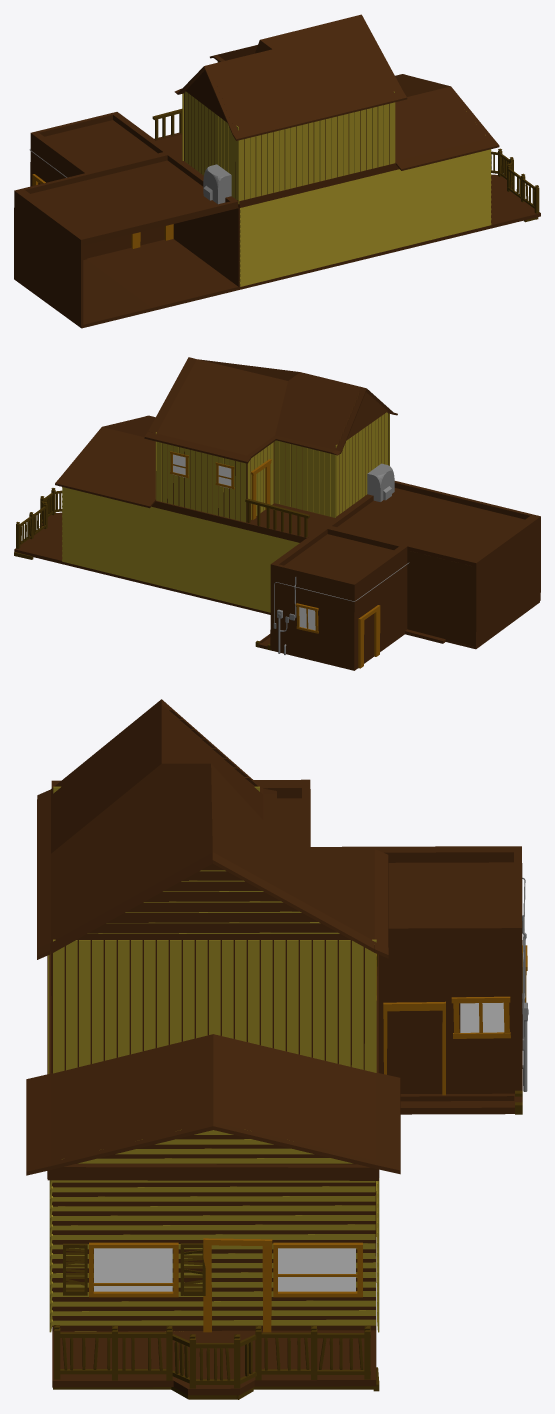
File: House.fbx
3 views of the same model, one above another, from view 1: azimuth 30°, elevation 25°; view 2: azimuth 150°, elevation 25°; view 3: azimuth 270°, elevation 25° (orthographic). The views are drawn at different scales.
Parts seen in each view (by area): view 1: Cube.013, mainhousebase.010, mainhousebase.008, mainhousebase.006, housetrim, porchrailing, Cube.010, mainhousebase.009, roofrailings; view 2: Cube.013, mainhousebase.011, mainhousebase.004, mainhousebase.007, mainhousebase.006, housetrim, porchrailing, mainhousebase.005, roofrailings, mainhousebase.009, Cube.010, Doorframe.001 (+1 smaller); view 3: Cube.013, mainhousebase.003, mainhousebase.001, porchrailing, housetrim, Window.001, Window.002, windowsheds, Doorframe.005, Cube.011, Cube.012, mainhousebase.002 (+4 smaller).
Boxes of the visible parts, bbox=[...] form: Cube.013: bbox=[14, 14, 540, 328]; mainhousebase.010: bbox=[239, 149, 491, 286]; mainhousebase.008: bbox=[238, 102, 395, 203]; mainhousebase.006: bbox=[184, 91, 238, 200]; housetrim: bbox=[154, 132, 399, 207]; porchrailing: bbox=[491, 148, 539, 213]; Cube.010: bbox=[203, 164, 231, 204]; mainhousebase.009: bbox=[185, 69, 233, 127]; roofrailings: bbox=[152, 109, 182, 139]; Cube.013: bbox=[14, 357, 540, 670]; mainhousebase.011: bbox=[62, 487, 299, 612]; mainhousebase.004: bbox=[156, 442, 246, 522]; mainhousebase.007: bbox=[274, 440, 335, 517]; mainhousebase.006: bbox=[335, 412, 387, 516]; housetrim: bbox=[151, 500, 308, 542]; porchrailing: bbox=[16, 488, 62, 548]; mainhousebase.005: bbox=[247, 442, 273, 519]; roofrailings: bbox=[245, 498, 309, 537]; mainhousebase.009: bbox=[337, 391, 387, 446]; Cube.010: bbox=[367, 463, 394, 501]; Doorframe.001: bbox=[358, 605, 380, 668]; Cube.013: bbox=[26, 699, 522, 1395]; mainhousebase.003: bbox=[53, 939, 376, 1073]; mainhousebase.001: bbox=[52, 1129, 375, 1331]; porchrailing: bbox=[54, 1325, 370, 1388]; housetrim: bbox=[47, 951, 379, 1180]; Window.001: bbox=[94, 1248, 172, 1291]; Window.002: bbox=[278, 1248, 355, 1291]; windowsheds: bbox=[63, 1243, 205, 1295]; Doorframe.005: bbox=[203, 1238, 272, 1332]; Cube.011: bbox=[273, 1242, 362, 1297]; Cube.012: bbox=[89, 1242, 178, 1297]; mainhousebase.002: bbox=[87, 870, 339, 933].
Size of the model in its own units: 1655 by 701 by 793.
